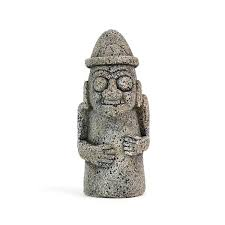Stone Statue: (58, 13, 158, 201)
